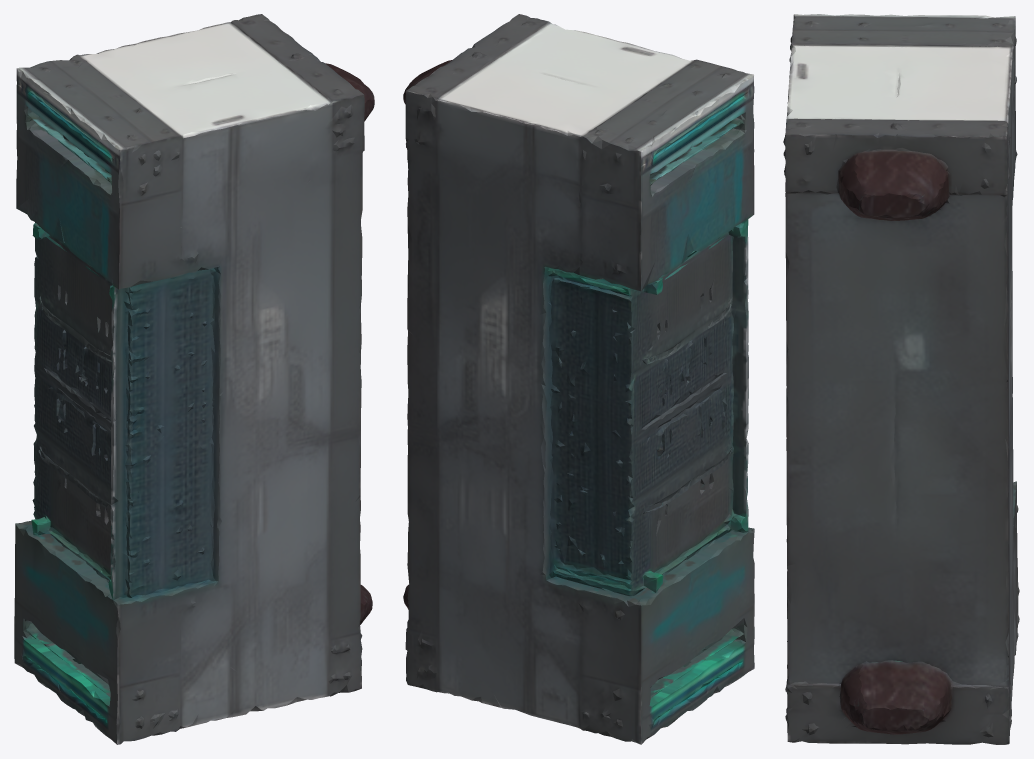
The model's file is CK1_ExpeditionRack.glb.
3 views of the same model, side by side, from view 1: azimuth 30°, elevation 25°; view 2: azimuth 150°, elevation 25°; view 3: azimuth 270°, elevation 25° (orthographic). The views are drawn at different scales.
Parts seen in each view (by area): view 1: CK1_ExpeditionRack; view 2: CK1_ExpeditionRack; view 3: CK1_ExpeditionRack.
Part boxes in pixels (x1=…): CK1_ExpeditionRack: x1=14, y1=14, x2=374, y2=744; CK1_ExpeditionRack: x1=403, y1=14, x2=754, y2=744; CK1_ExpeditionRack: x1=783, y1=14, x2=1019, y2=744.
Size of the model in its own units: 1.31 by 2.6 by 0.9037.
Materials: 1 (1 with a texture image).
